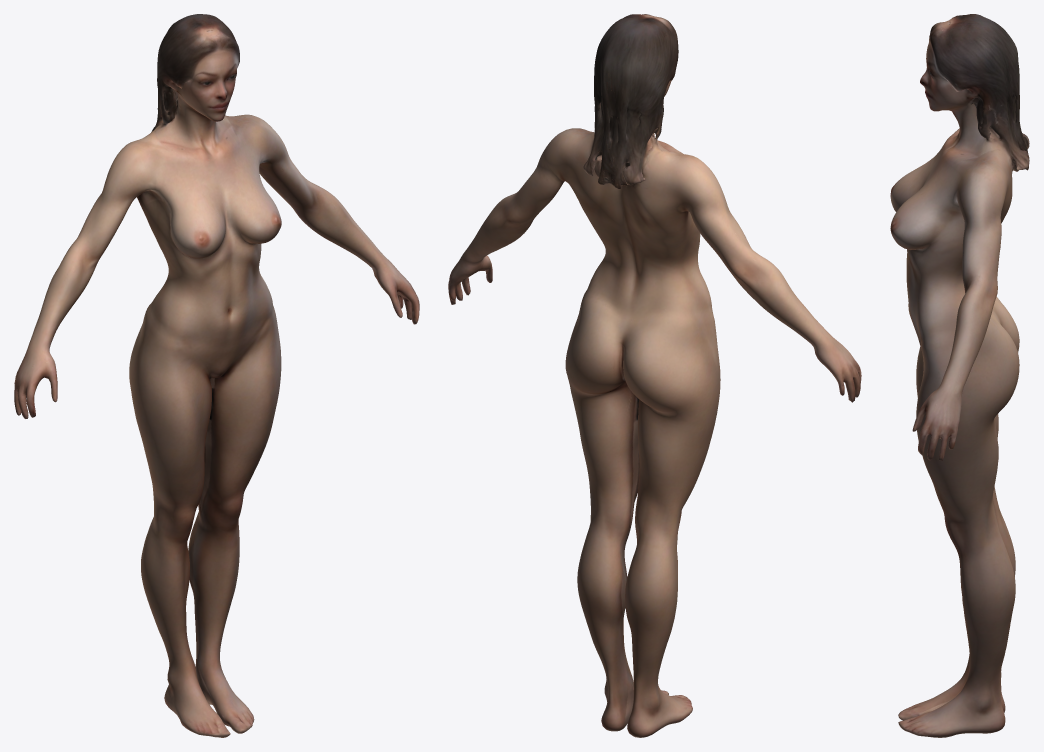
Rendered from Gwen.glb.
3 renders of one model, left to right at view 1: azimuth 30°, elevation 25°; view 2: azimuth 150°, elevation 25°; view 3: azimuth 270°, elevation 25°, orthographic.
Parts seen in each view (by area): view 1: Object_4; view 2: Object_4; view 3: Object_4.
Boxes of the visible parts, box(x1,y1,x2,y2) form: Object_4: box(14, 14, 419, 737); Object_4: box(448, 14, 861, 737); Object_4: box(890, 14, 1029, 737).
Size of the model in its own units: 1.2 by 2 by 0.3563.
1 material, 1 textured.
